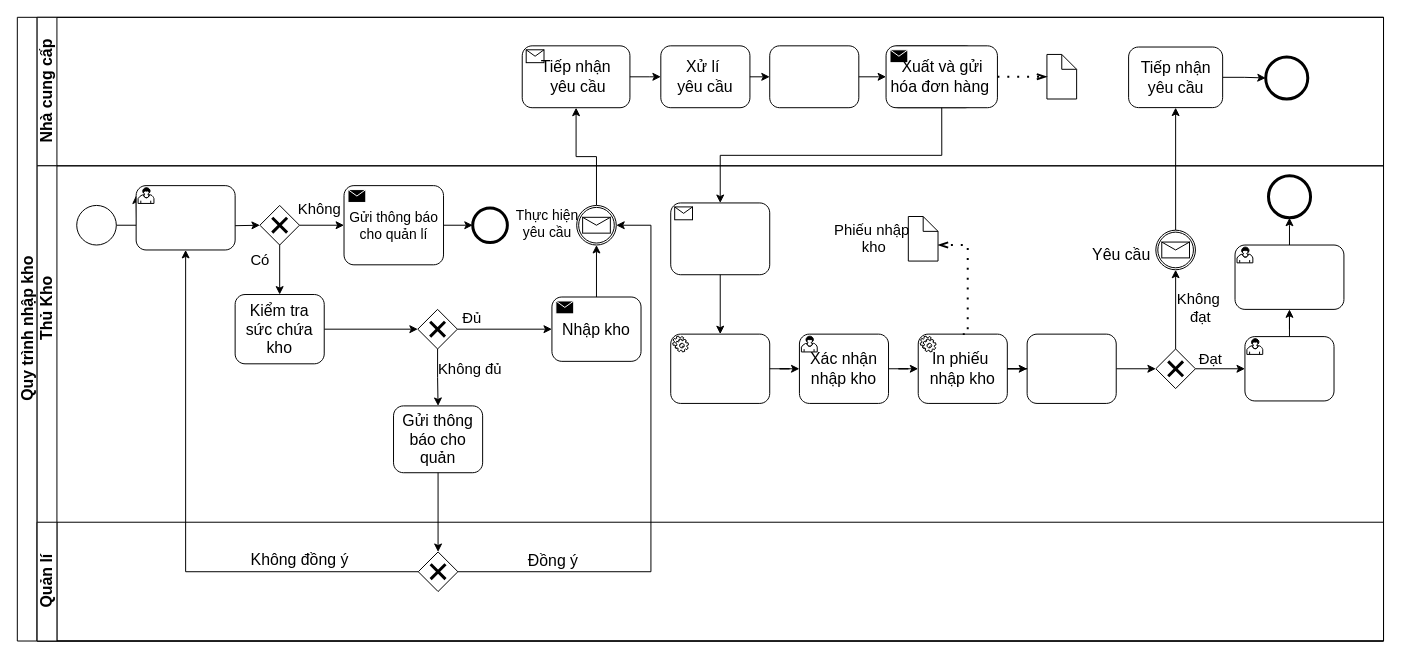
Some shapes in this 1401 by 658 pixel diagram are drawn without their labels. Here are the shapes that lost their labels. From the top down, the centre of each, then its label:
At (814,76): "Cung cấp hàng hóa".
At (185,217): "Tìm phiếu nhập kho".
At (720,238): "Tiếp nhận đơn hàng".
At (1289,276): "Đưa lên hệ thống".
At (720,368): "Tạo đơn nhập".
At (1071,368): "Kiểm tra chất lượng và số lượng".
At (1289,368): "Xác nhận".
